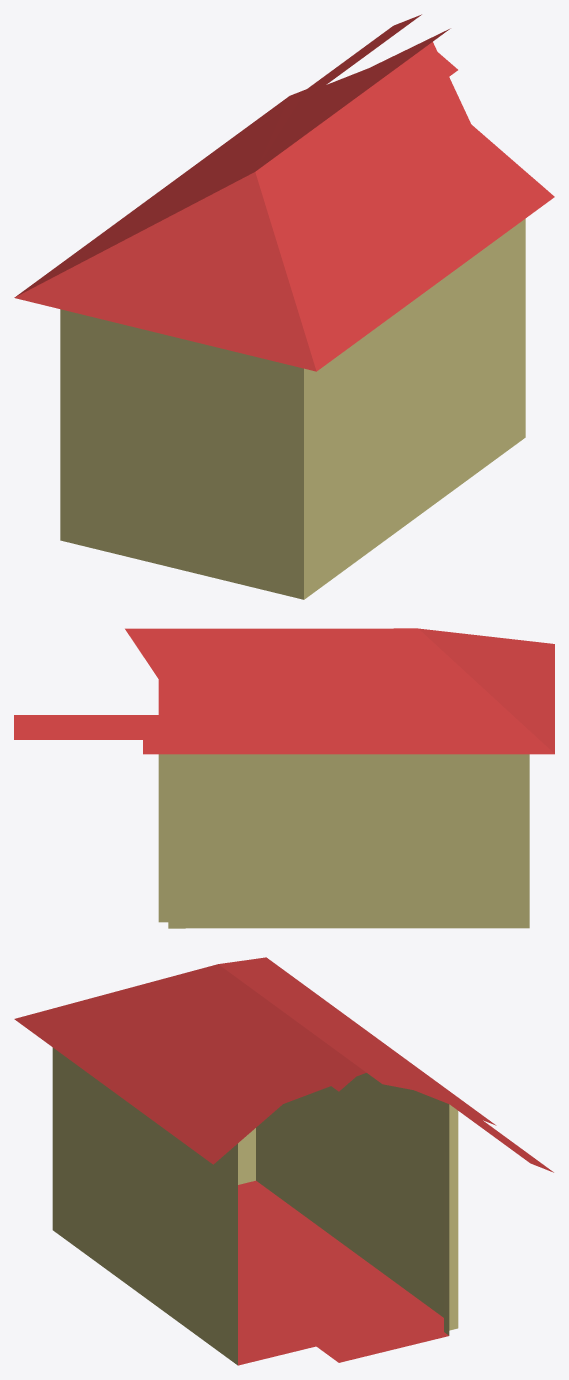
3 views of the same model, one above another, from view 1: azimuth 30°, elevation 25°; view 2: azimuth 150°, elevation 25°; view 3: azimuth 270°, elevation 25° (orthographic). The views are drawn at different scales.
Bounding box in the file's own units: 14.43 × 14.29 × 8.35.
